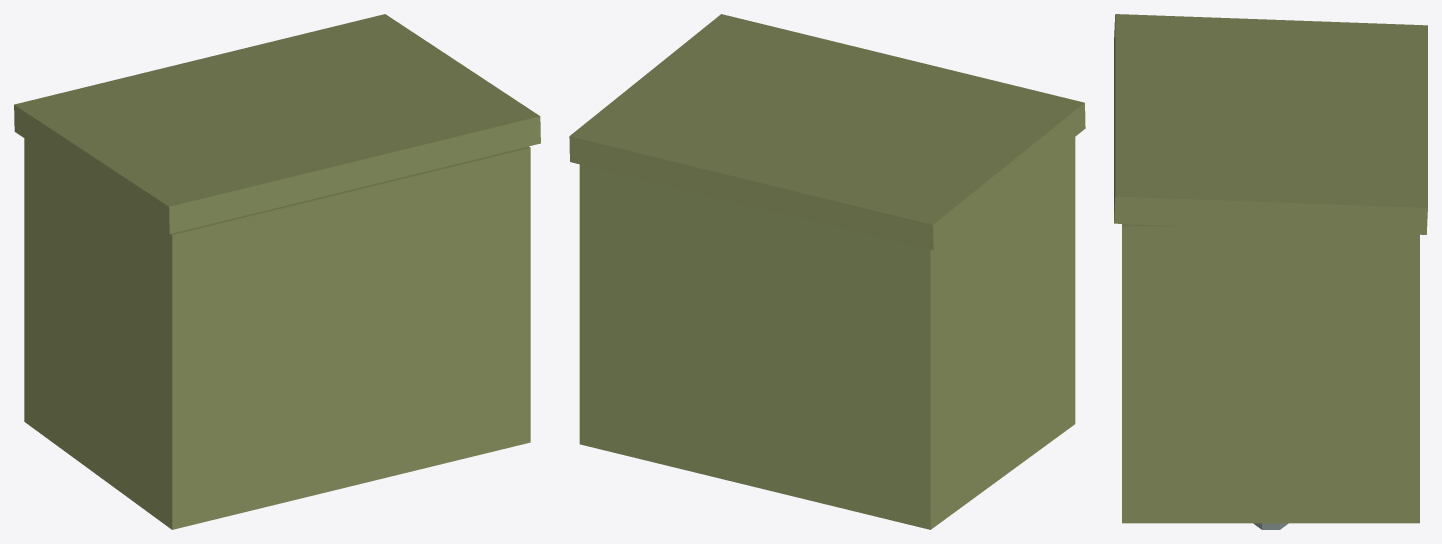
File: SM_Contenedor_v0_Verde_LOD0.fbx
3 renders of one model, left to right at view 1: azimuth 30°, elevation 25°; view 2: azimuth 150°, elevation 25°; view 3: azimuth 270°, elevation 25°, orthographic. The views are drawn at different scales.
Parts seen in each view (by area): view 1: SM_urbano_extra_v0_LOD0; view 2: SM_urbano_extra_v0_LOD0; view 3: SM_urbano_extra_v0_LOD0.
Part boxes in pixels (x1,y1,x2,y2): SM_urbano_extra_v0_LOD0: [14, 14, 540, 529]; SM_urbano_extra_v0_LOD0: [569, 14, 1085, 529]; SM_urbano_extra_v0_LOD0: [1114, 14, 1427, 529].
Size of the model in its own units: 1.45 by 1.29 by 1.05.
